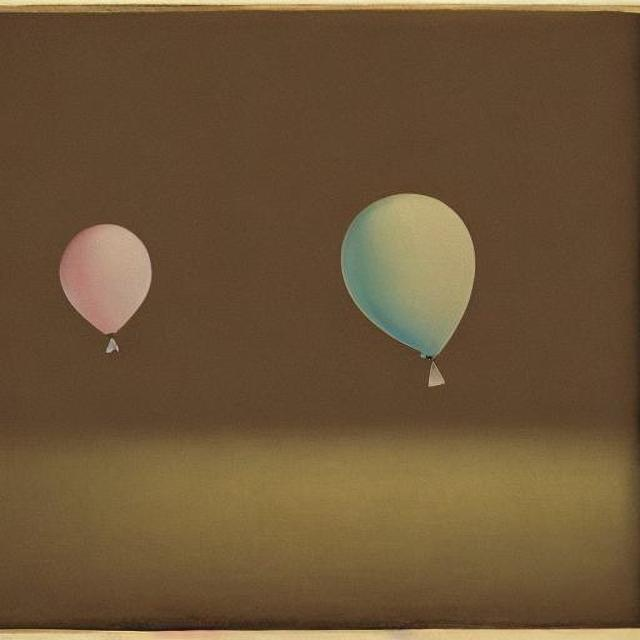balloon: (336, 188, 477, 356), (56, 220, 152, 336)
